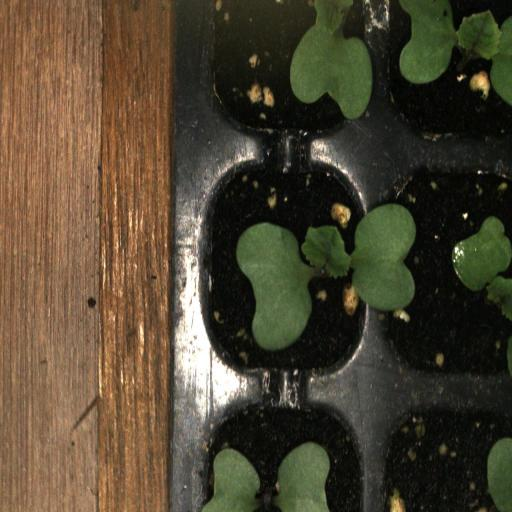seedling: (196, 146, 380, 392), (196, 390, 380, 512), (381, 0, 512, 149)
